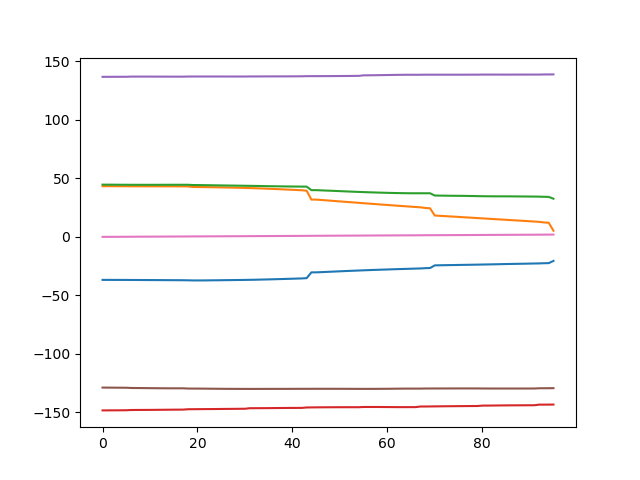Too_Slow: (2, 1, 640, 480)
